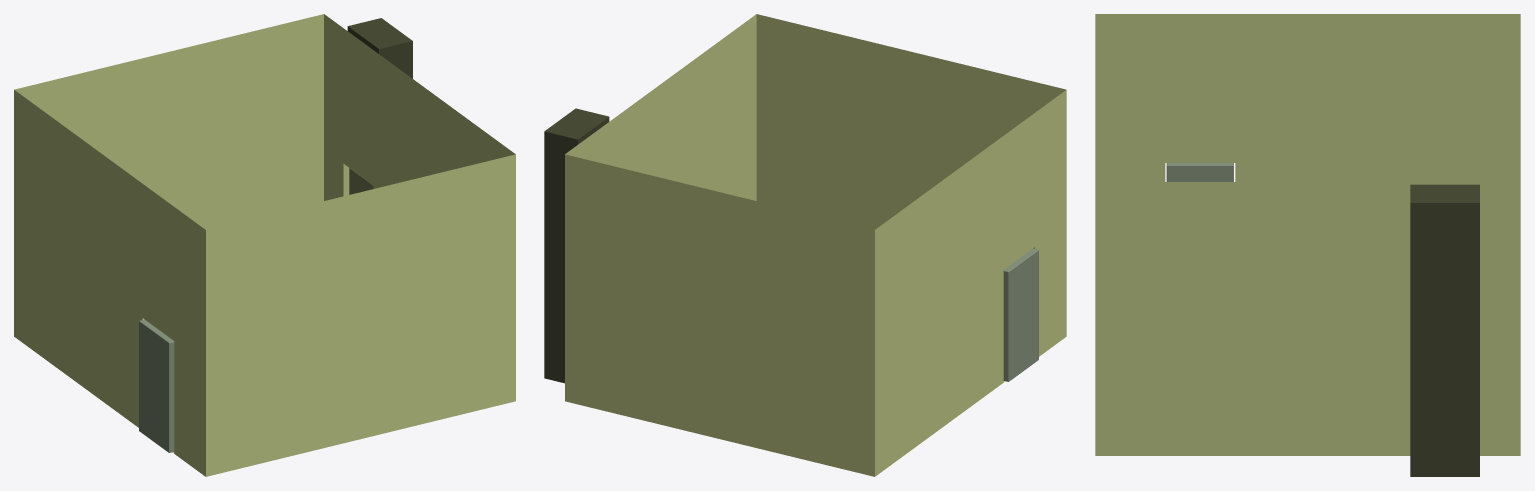
The model's file is room_v2_no_pc.glb.
3 views of the same model, side by side, from view 1: azimuth 30°, elevation 25°; view 2: azimuth 150°, elevation 25°; view 3: azimuth 270°, elevation 25° (orthographic). The views are drawn at different scales.
Visible parts, largest first — view 1: floor_walls, door, dumbwaiter_well; view 2: floor_walls, dumbwaiter_well, door; view 3: floor_walls, dumbwaiter_well, door.
Part boxes in pixels (bbox=[...]): floor_walls: bbox=[14, 14, 515, 476]; door: bbox=[139, 319, 174, 452]; dumbwaiter_well: bbox=[347, 18, 412, 194]; floor_walls: bbox=[565, 14, 1066, 476]; dumbwaiter_well: bbox=[544, 108, 609, 383]; door: bbox=[1003, 248, 1038, 381]; floor_walls: bbox=[1095, 14, 1520, 455]; dumbwaiter_well: bbox=[1410, 184, 1479, 476]; door: bbox=[1166, 163, 1233, 181].
Bounding box in the file's own units: 3 × 2 × 2.81.
